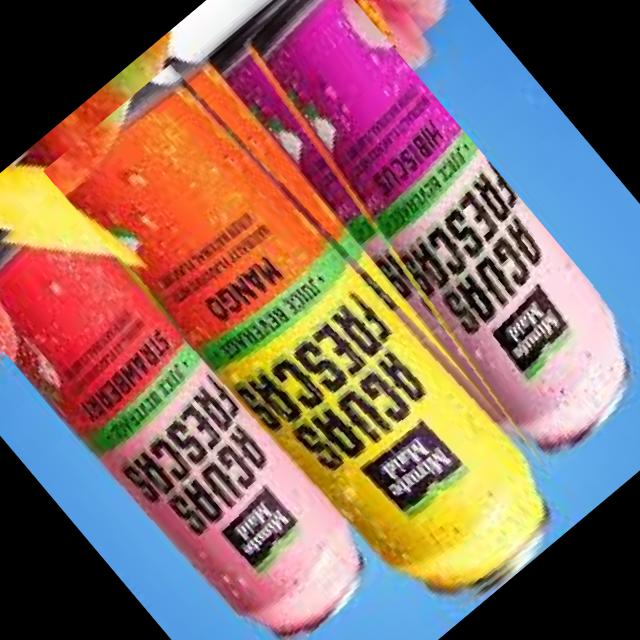Cans: (41, 40, 588, 638), (198, 0, 640, 475), (0, 177, 390, 640)
